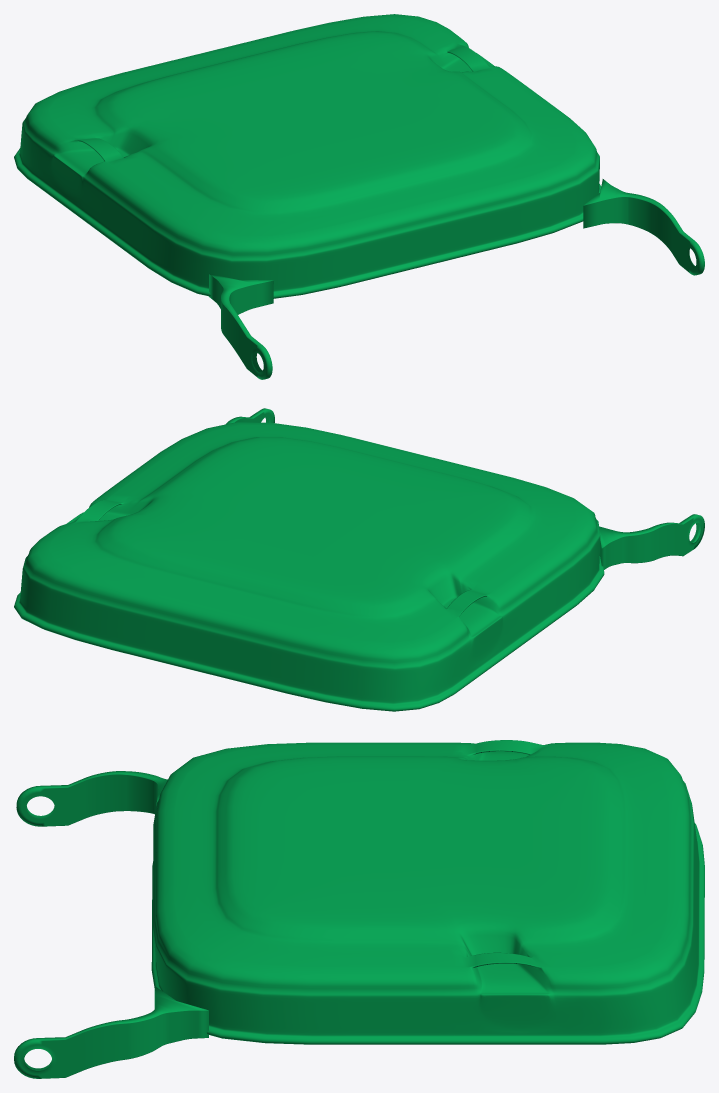
The model's file is tutup-organik.fbx.
3 views of the same model, one above another, from view 1: azimuth 30°, elevation 25°; view 2: azimuth 150°, elevation 25°; view 3: azimuth 270°, elevation 25° (orthographic). The views are drawn at different scales.
Parts seen in each view (by area): view 1: BinBaseRim.003; view 2: BinBaseRim.003; view 3: BinBaseRim.003.
Part boxes in pixels (<box>): BinBaseRim.003: <box>14,14,704,379</box>; BinBaseRim.003: <box>14,408,704,711</box>; BinBaseRim.003: <box>14,740,704,1078</box>.
Bounding box in the file's own units: 235 × 48.95 × 270.
